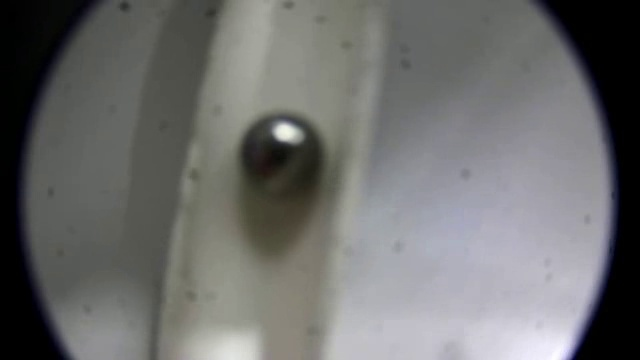gangzhu: (233, 104, 324, 197)
